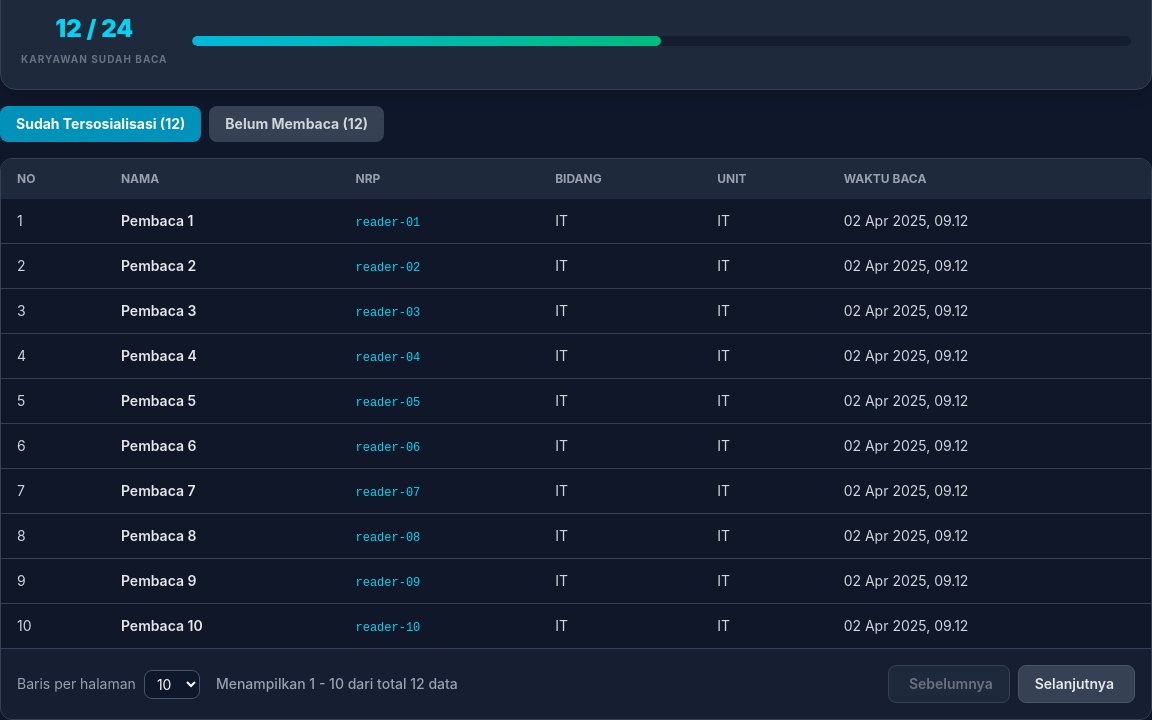
SosialisasiDetailPage › paginates both reader tabs and keeps their data and status columns distinct
(page scrolled)
Expected: the text "Pembaca 1" is shown, [121, 212, 193, 229]
Expected: the text "Pembaca 10" is shown, [121, 617, 203, 634]
Click the button "Selanjutnya": (1076, 684) [1018, 665, 1135, 703]
(page scrolled)
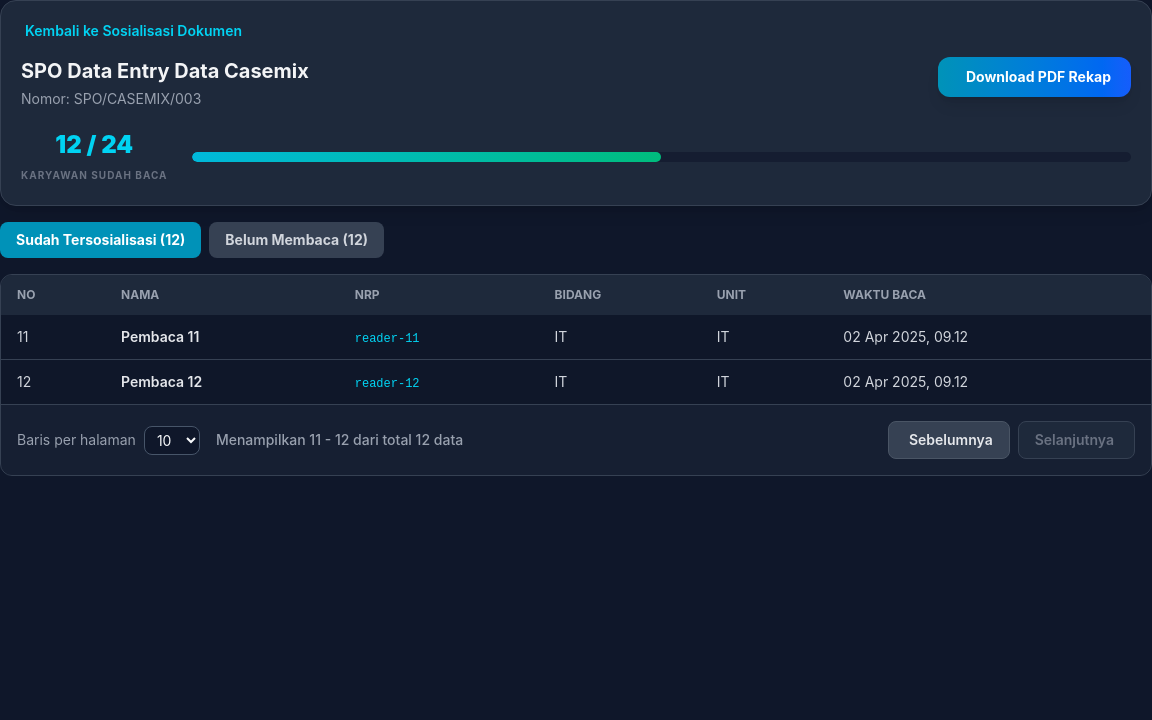
Expected: the text "Pembaca 11" is shown, [121, 328, 199, 345]
Expected: the text "11" is shown, [1, 315, 105, 360]
Expected: the text "Menampilkan 11 - 12 dari total 12 data" is shown, [216, 430, 463, 450]
Click the button "Belum Membaca (12)": (297, 240) [209, 222, 384, 258]
(page scrolled)
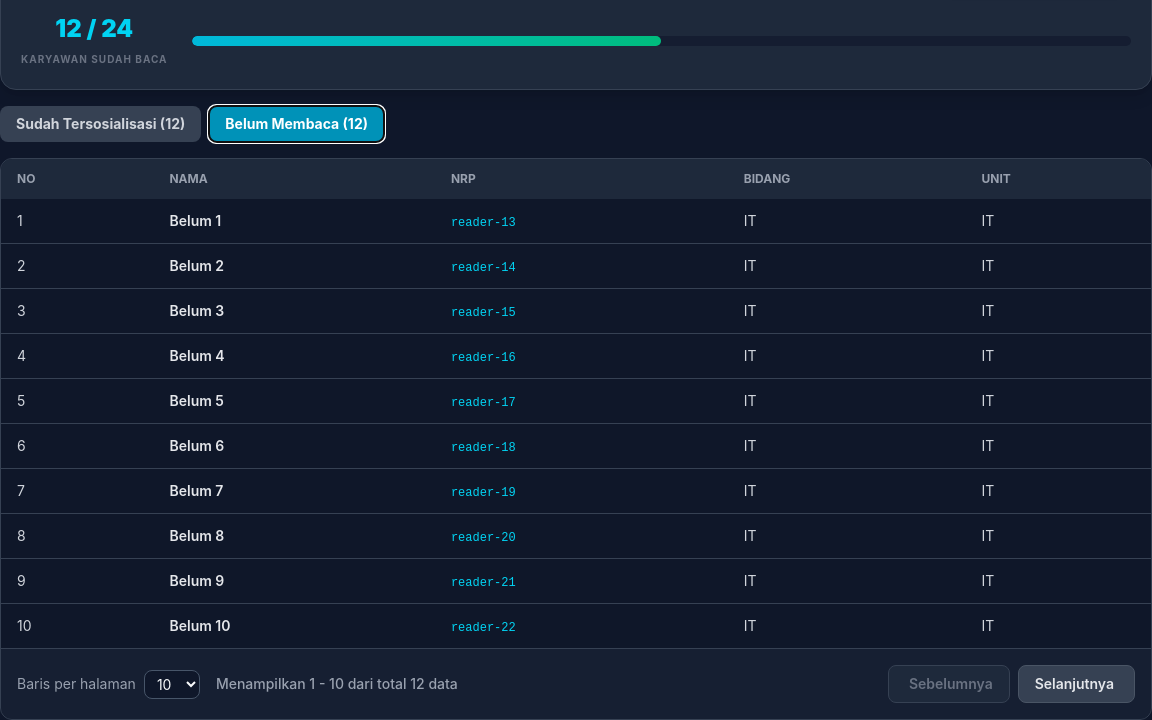
Expected: the text "Belum 1" is shown, [170, 212, 221, 229]
Expected: the column heading "Waktu Baca" is gone
Expected: the text "Menampilkan 1 - 10 dari total 12 data" is shown, [216, 674, 458, 694]
Click the button "Selanjutnya": (1076, 684) [1018, 665, 1135, 703]
(page scrolled)
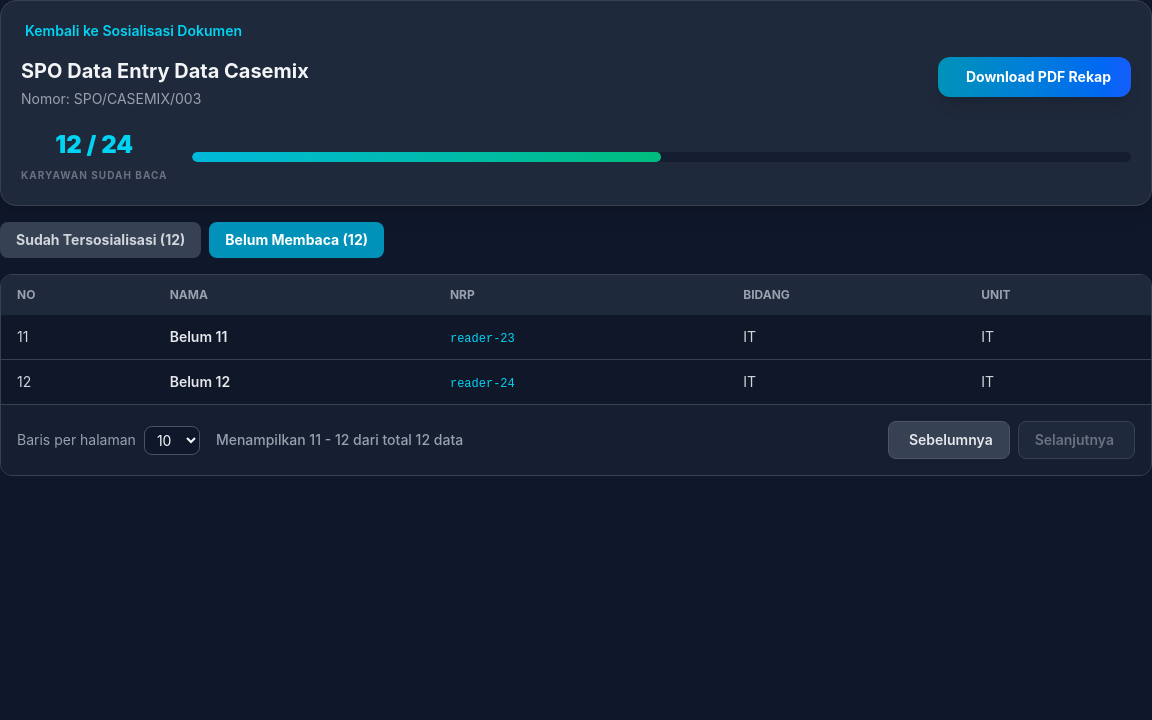
Expected: the text "Belum 11" is shown, [170, 328, 227, 345]
